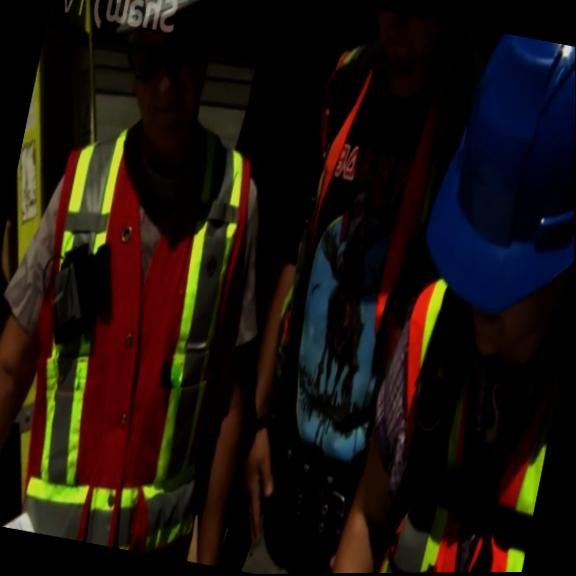safety_vest: (0, 101, 274, 563), (273, 23, 489, 383), (356, 254, 574, 573)
